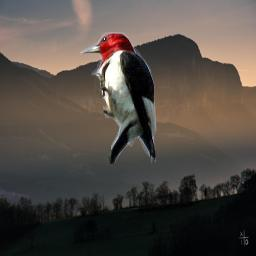Woodpecker: (79, 32, 158, 164)
